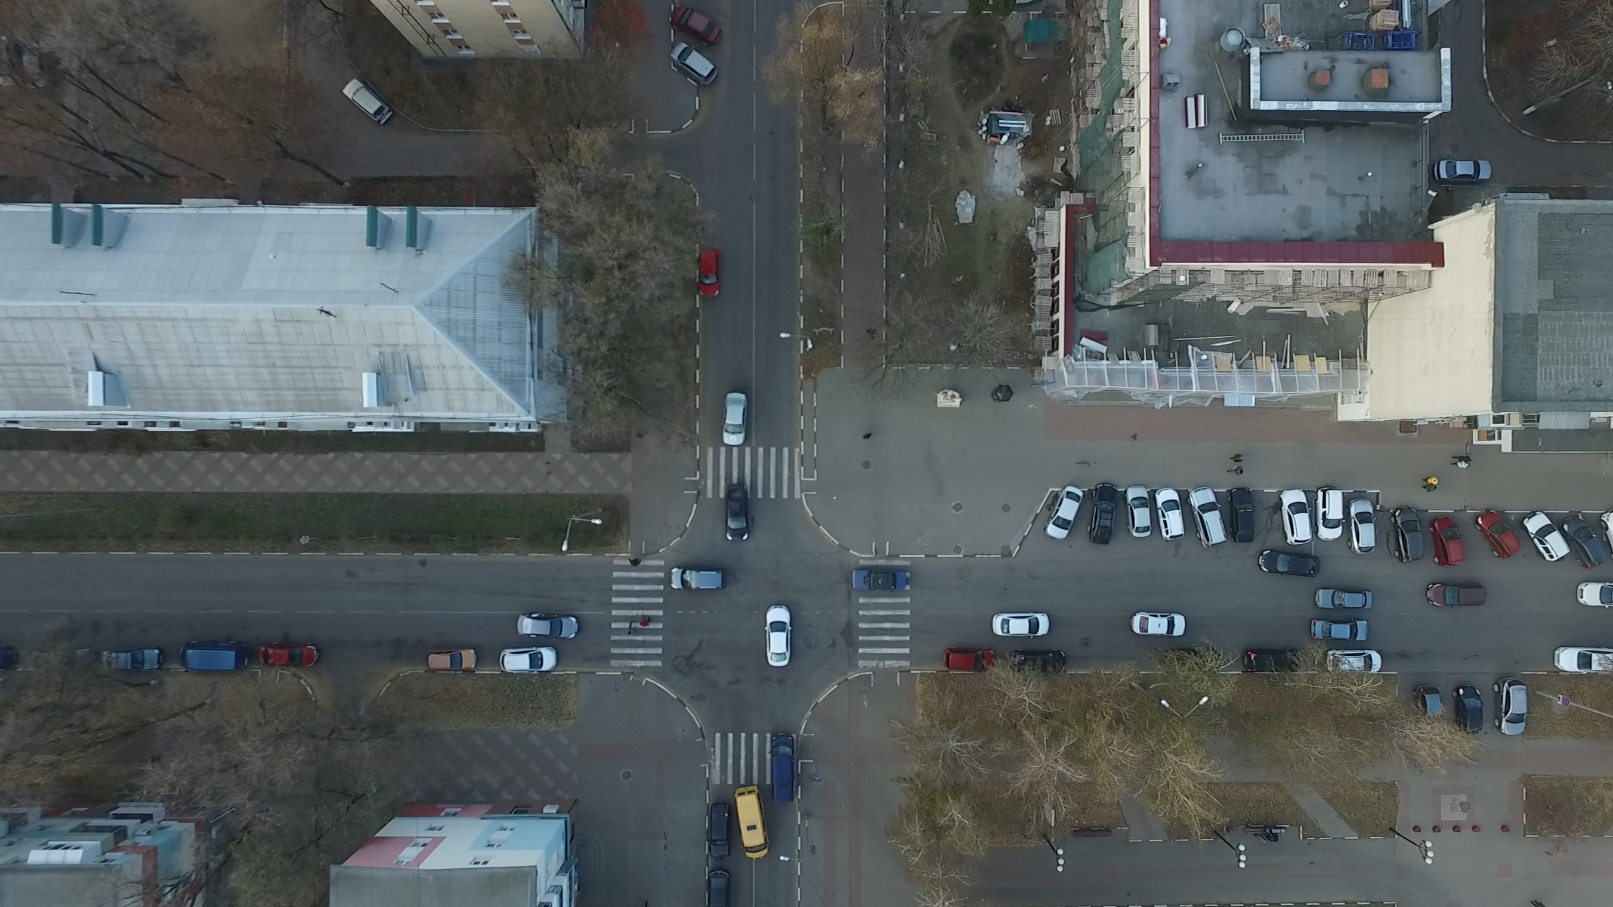car: (1518, 503, 1569, 559), (734, 787, 773, 860), (339, 78, 395, 126), (1185, 487, 1227, 552), (1559, 507, 1607, 563), (1475, 506, 1521, 563), (1492, 677, 1531, 740), (181, 640, 254, 673), (668, 3, 721, 47), (1083, 480, 1119, 544), (1044, 486, 1085, 542), (1426, 511, 1465, 567), (1389, 504, 1426, 564), (1153, 486, 1190, 544), (670, 41, 717, 85), (1280, 487, 1314, 547), (1223, 487, 1256, 546), (768, 731, 794, 804), (1257, 550, 1321, 580), (764, 605, 793, 669), (261, 640, 322, 670), (499, 643, 556, 674), (514, 614, 578, 641), (1008, 647, 1068, 676), (1164, 642, 1224, 671), (1555, 645, 1613, 674), (992, 611, 1049, 640), (1123, 486, 1153, 542), (34, 649, 99, 674), (1453, 686, 1486, 736), (1348, 497, 1377, 554), (1314, 487, 1343, 544), (1131, 610, 1190, 638), (1322, 647, 1380, 674), (723, 482, 750, 542), (1308, 617, 1368, 643), (1434, 155, 1492, 182), (102, 649, 165, 673), (1425, 583, 1486, 607), (942, 645, 995, 672), (1414, 687, 1445, 733), (667, 566, 723, 591), (1244, 648, 1305, 671), (705, 798, 728, 857), (425, 648, 477, 673), (723, 391, 747, 447), (1316, 587, 1371, 610), (850, 569, 906, 591), (695, 247, 718, 298), (1578, 578, 1613, 609), (707, 863, 731, 905), (1, 649, 22, 672)
